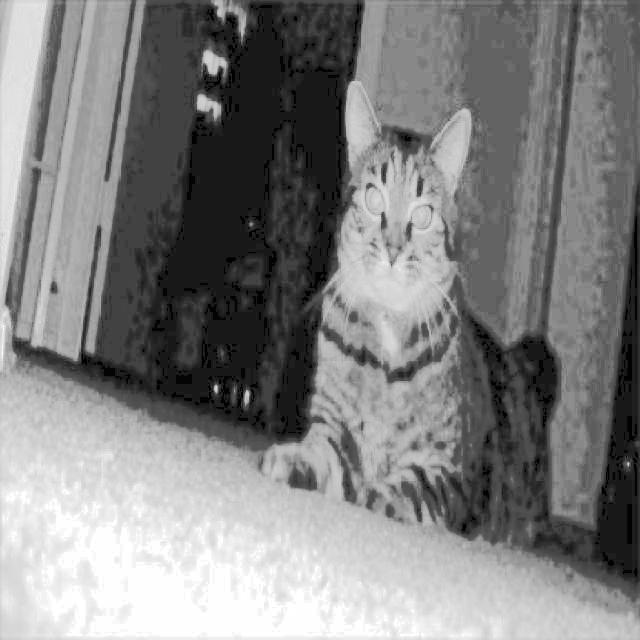Cat: (254, 78, 573, 564)
